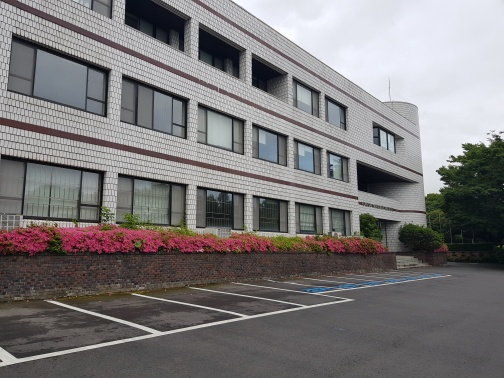Foreign Language Institute: (12, 13, 441, 272), (112, 167, 359, 274), (117, 70, 293, 171)
